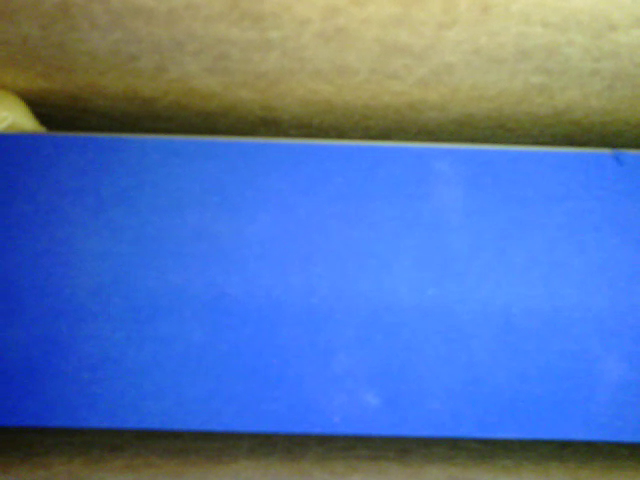shell: (1, 88, 51, 135)
